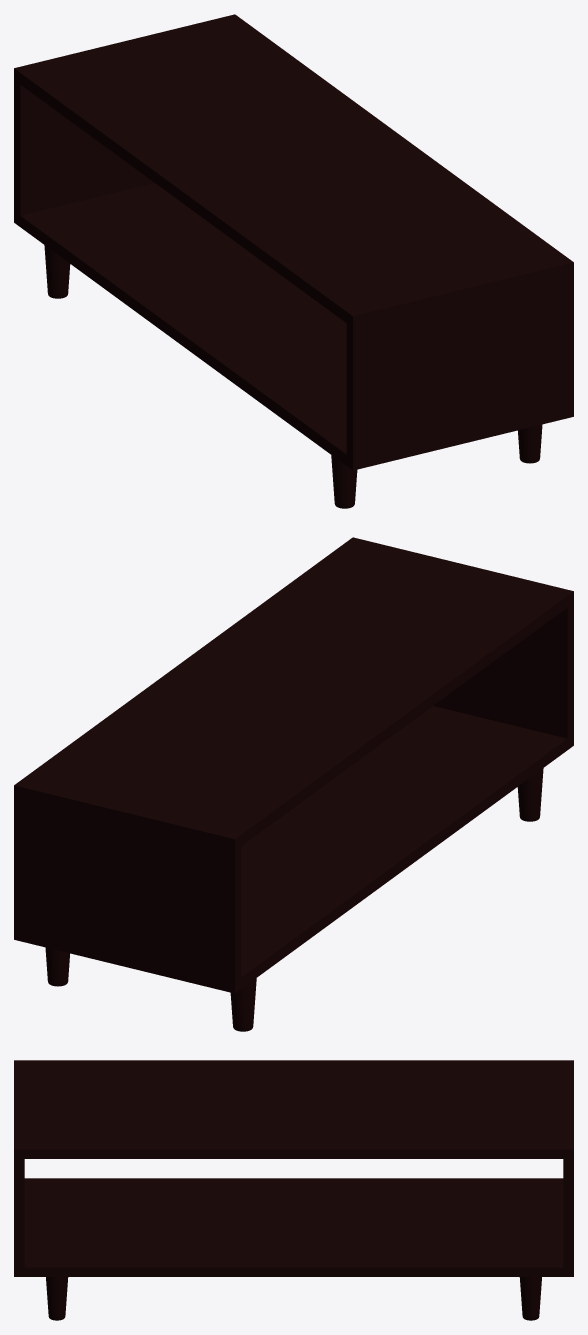
Rendered from uploads_files_1028240_jpcbhlwfr.dae.
3 views of the same model, one above another, from view 1: azimuth 30°, elevation 25°; view 2: azimuth 150°, elevation 25°; view 3: azimuth 270°, elevation 25° (orthographic). The views are drawn at different scales.
Parts seen in each view (by area): view 1: Cube, Cylinder; view 2: Cube, Cylinder; view 3: Cube, Cylinder.
Part boxes in pixels (<box>): Cube: <box>14,14,573,470</box>; Cylinder: <box>44,245,542,508</box>; Cube: <box>14,537,573,993</box>; Cylinder: <box>45,768,543,1031</box>; Cube: <box>14,1060,573,1276</box>; Cylinder: <box>46,1277,541,1320</box>.
Bounding box in the file's own units: 3.19 × 8.47 × 2.92.
